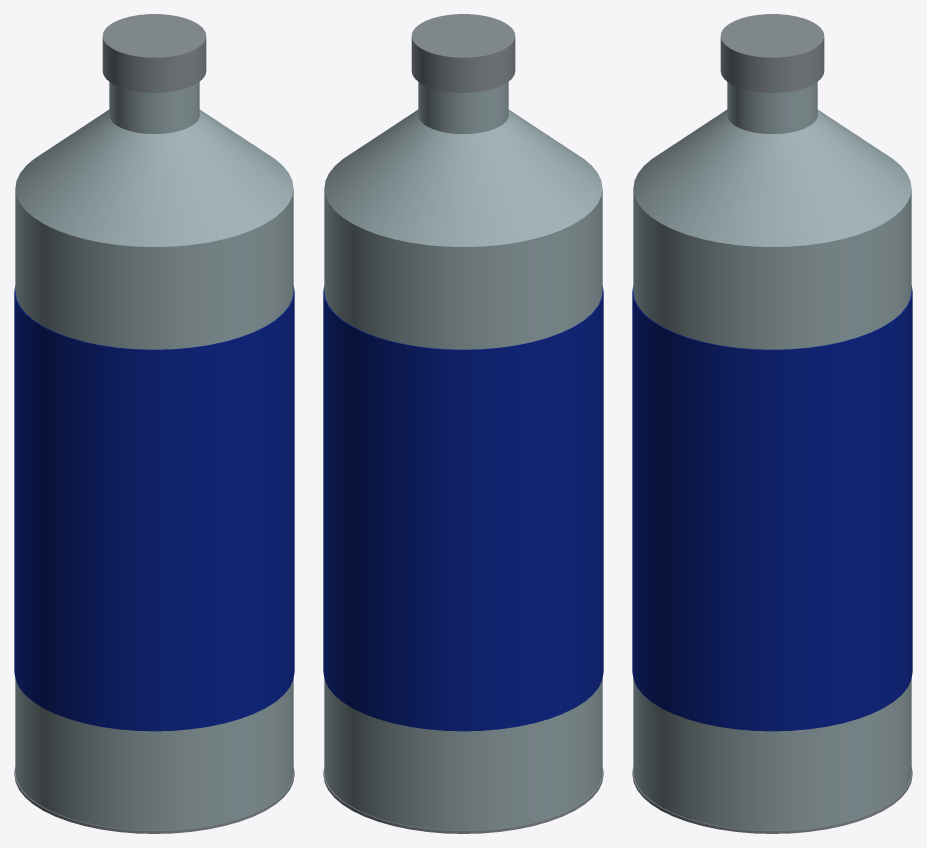
Rendered from water_bottle.glb.
The picture shows the model from 3 angles, left to right: view 1: azimuth 30°, elevation 25°; view 2: azimuth 150°, elevation 25°; view 3: azimuth 270°, elevation 25°; orthographic projection.
Parts seen in each view (by area): view 1: package:vessel; view 2: package:vessel; view 3: package:vessel.
Boxes of the visible parts, x1=… form: package:vessel: x1=14, y1=14, x2=294, y2=833; package:vessel: x1=323, y1=14, x2=603, y2=833; package:vessel: x1=632, y1=14, x2=912, y2=833.
Bounding box in the file's own units: 0.0866 × 0.252 × 0.0866.
